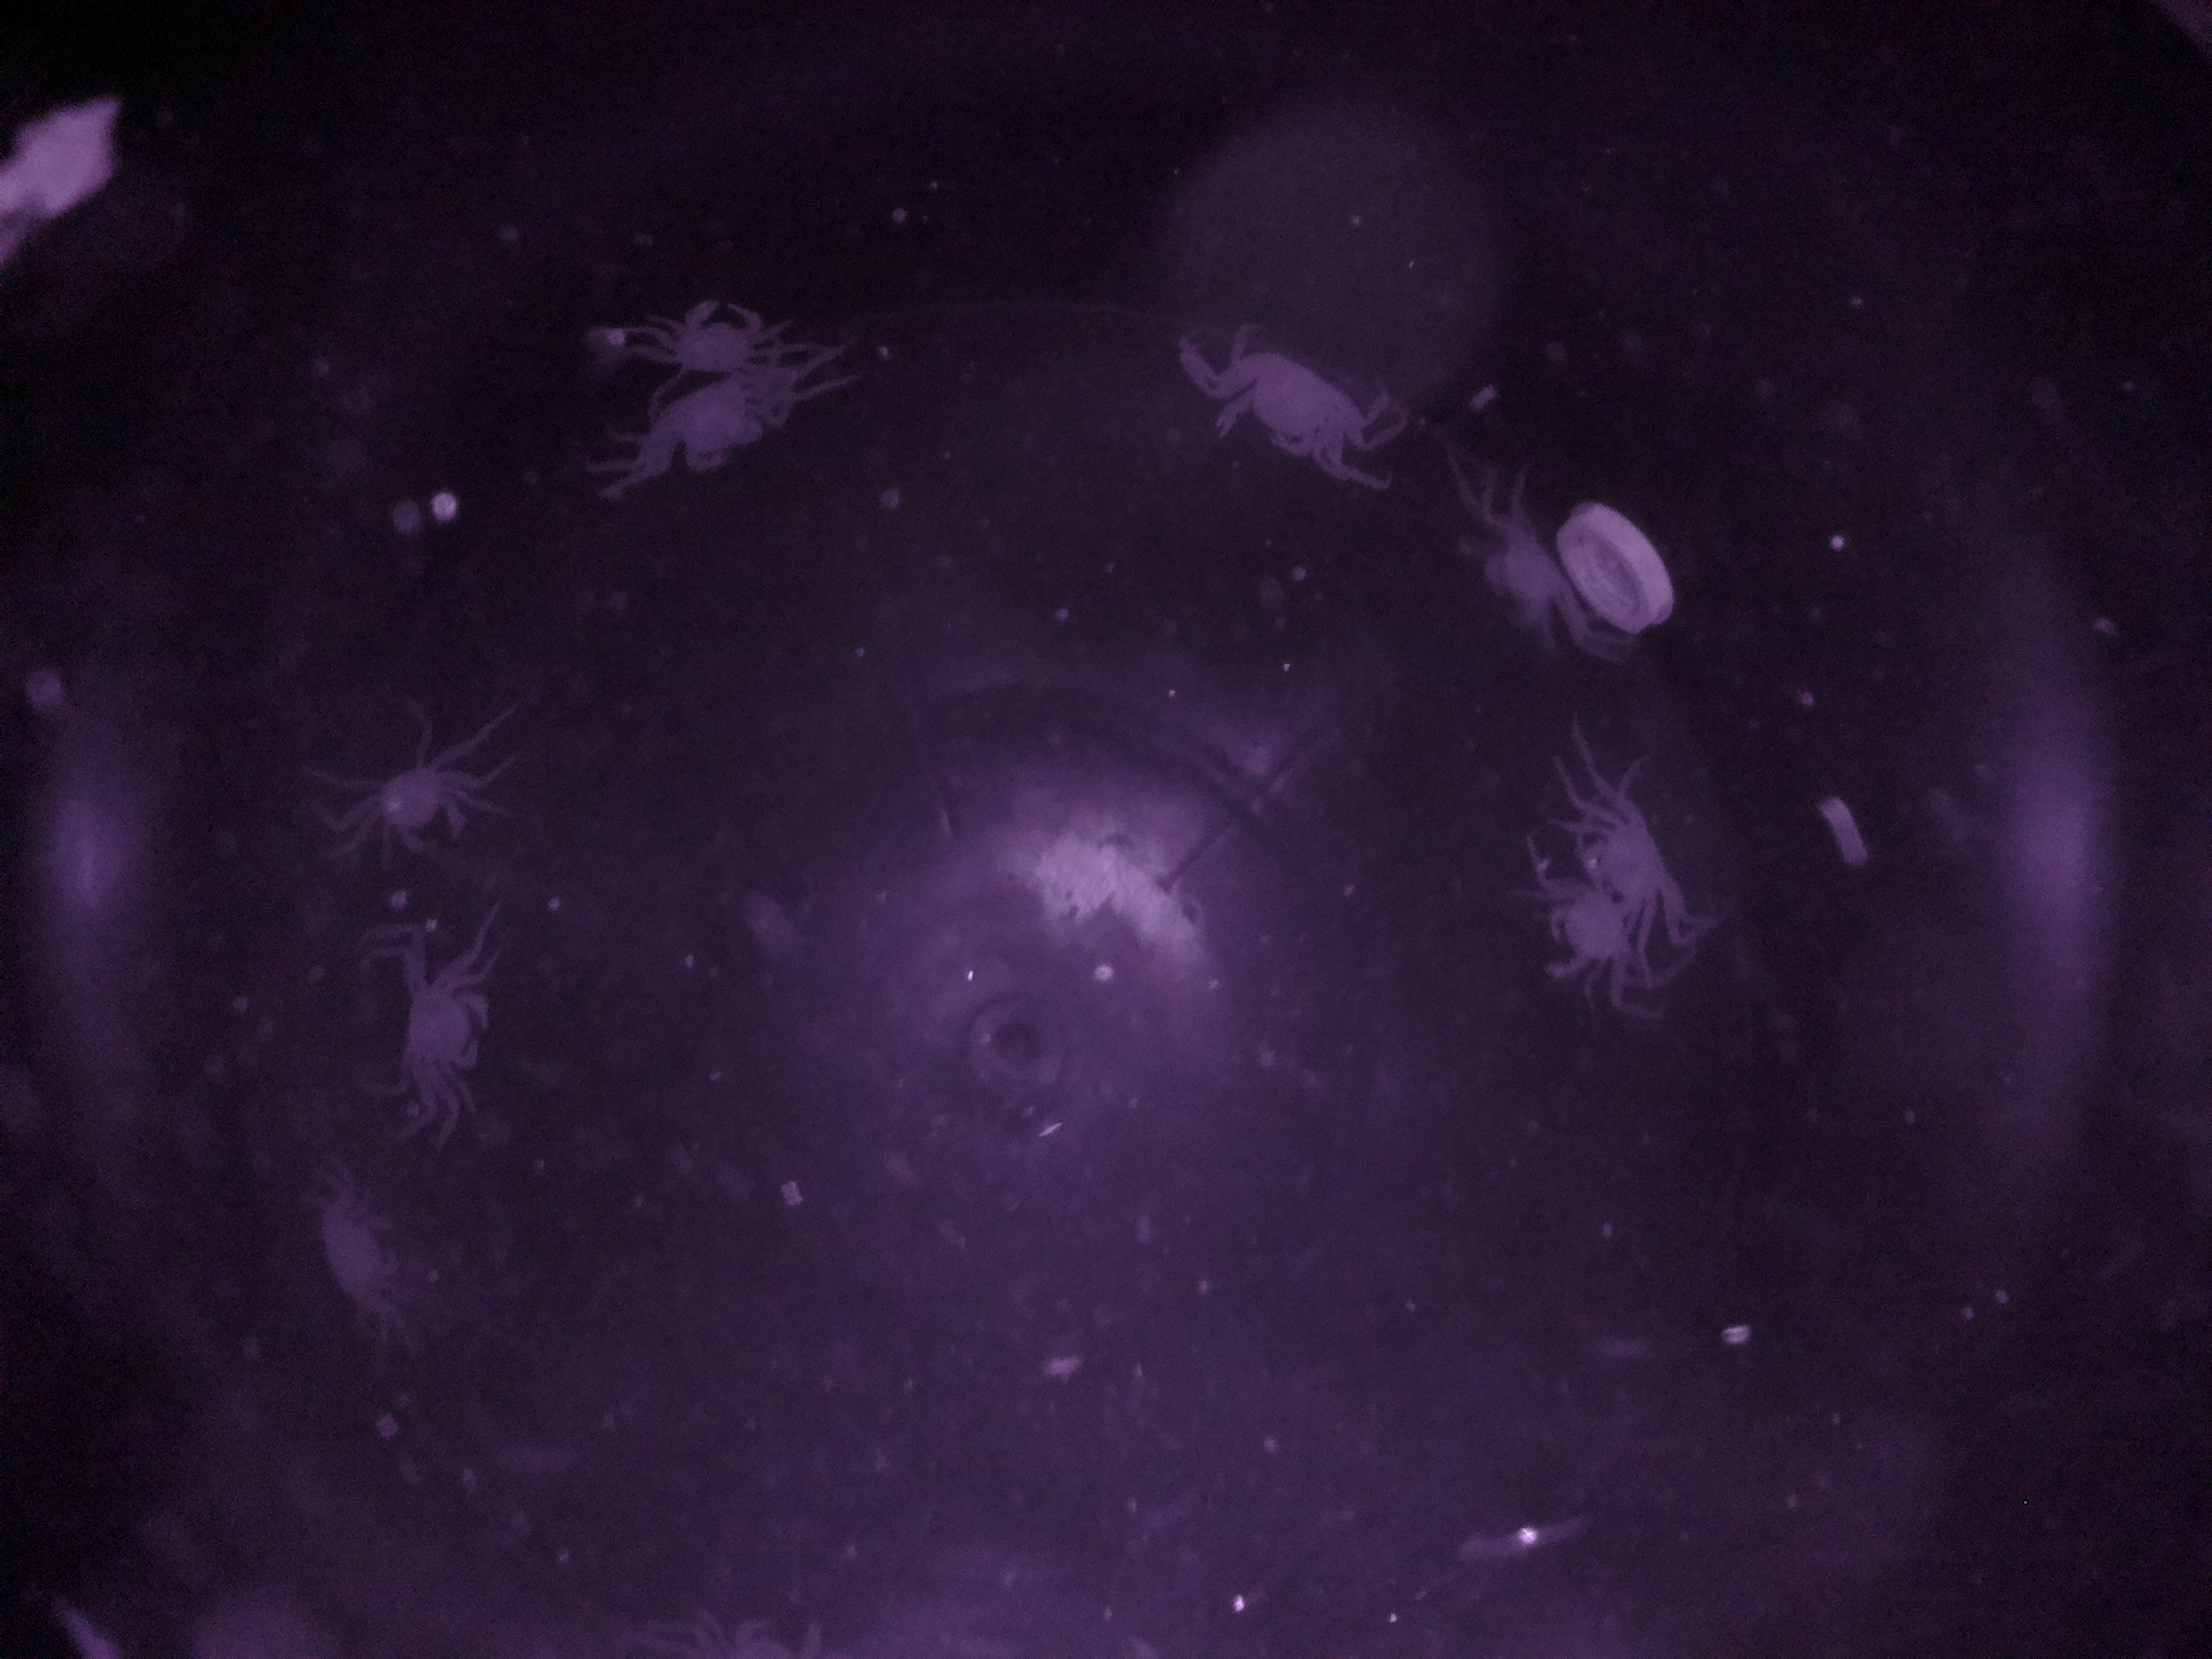Crab: (1183, 319, 1399, 493), (1447, 472, 1602, 680), (368, 938, 517, 1133), (617, 366, 805, 504), (341, 721, 502, 877)
